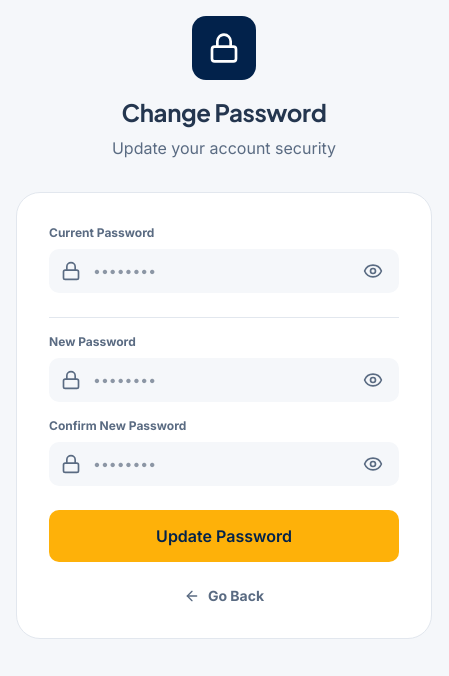
ChangePassword › shows a mismatch next to the field and sends nothing
The width and height of the screenshot is (449, 676).
Type "old-pass" into the password field named "Current password".
click(224, 271); type("old-pass")  # box [49,249,399,293]
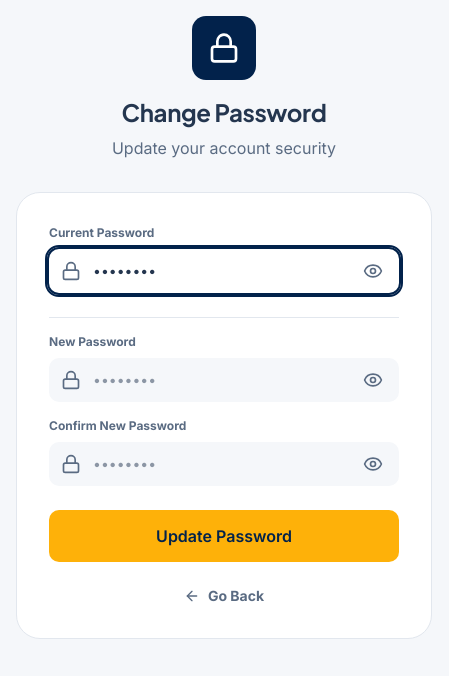
Type "new-pass-1" into the password field named "New password".
click(224, 380); type("new-pass-1")  # box [49,358,399,402]
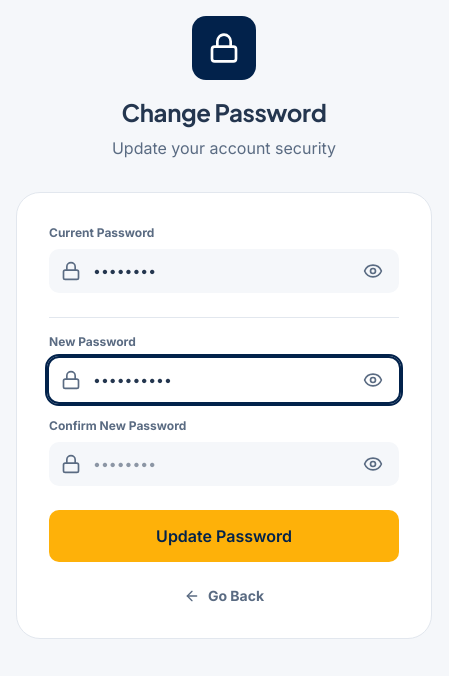
Type "new-pass-2" into the password field named "Confirm new password".
click(224, 464); type("new-pass-2")  # box [49,442,399,486]
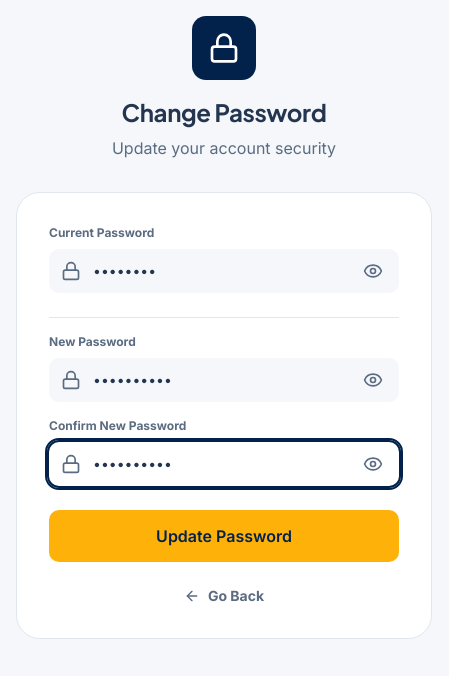
Click the button "Update Password".
click(224, 536)  # box [49,510,399,562]
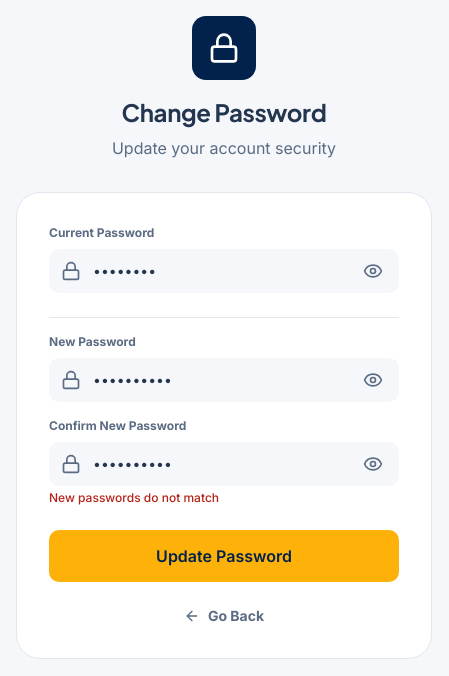
Expected: the text "New passwords do not match" is shown, [49,490,219,505]
